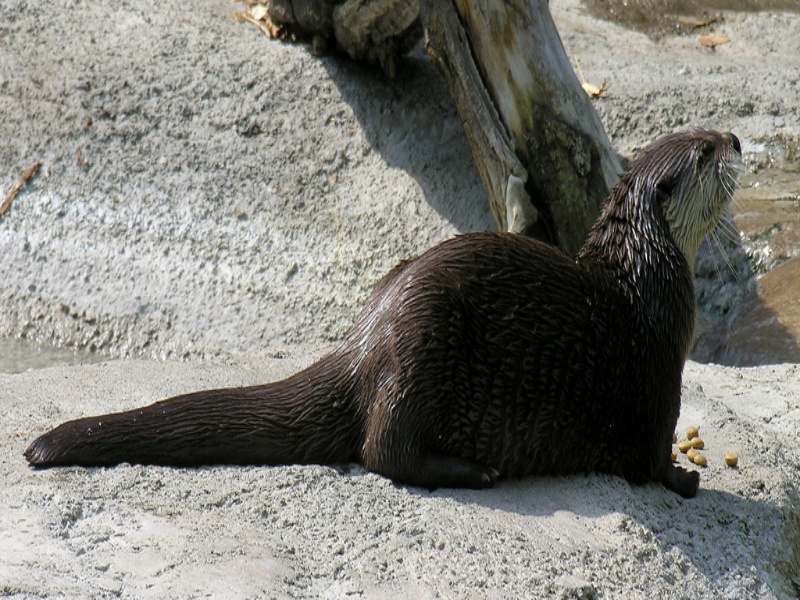minkish: (26, 130, 747, 506)
